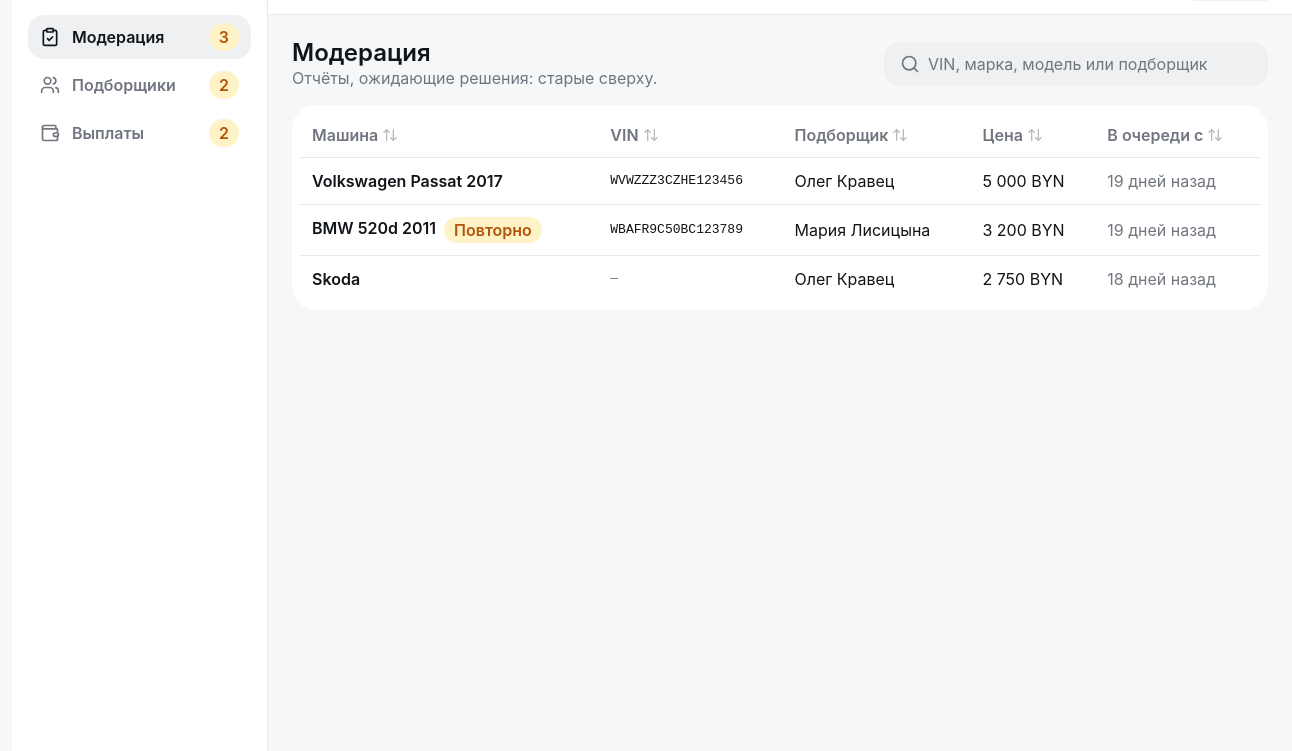
Test: переход в карточку › клик по строке → /reports/:id
Click the cell "WVWZZZ3CZHE123456".
click(690, 180)  # box [598, 157, 782, 204]
(page scrolled)
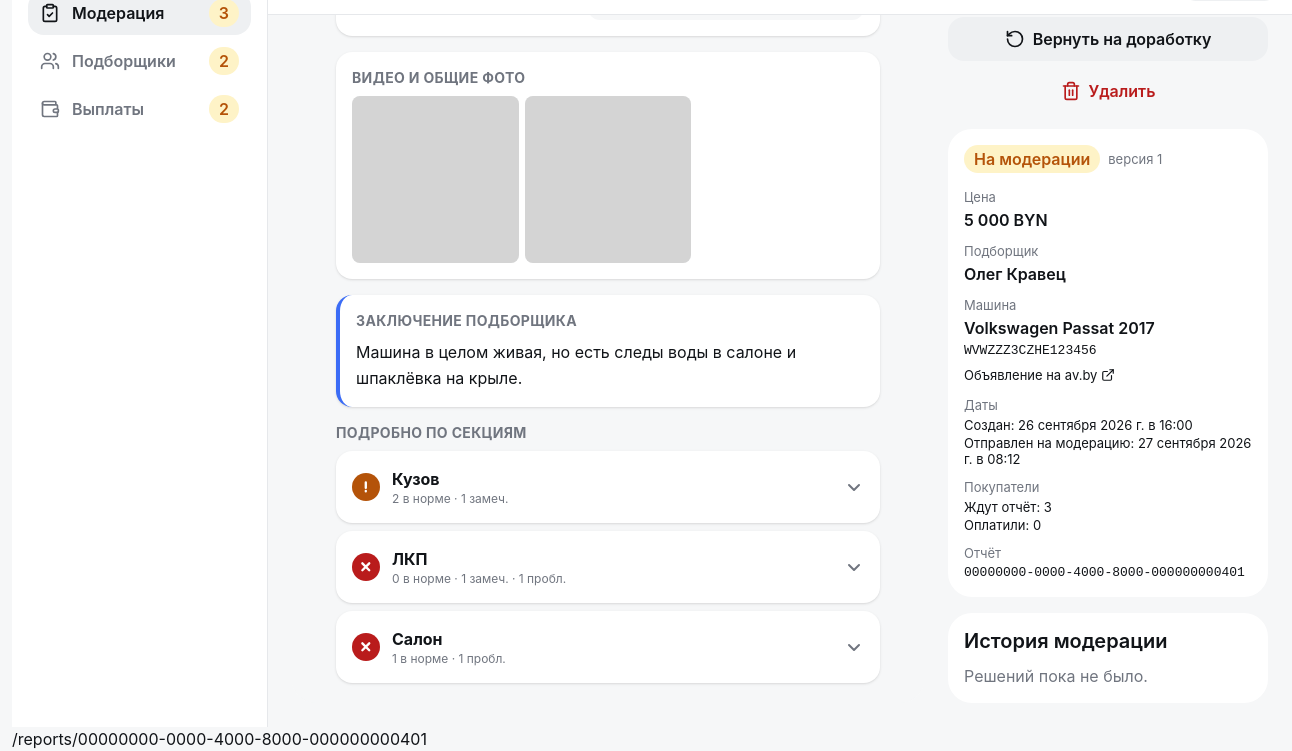
Check: the text with test id "location" reads "/reports/00000000-0000-4000-8000-000000000401", box [12, 729, 427, 749]
